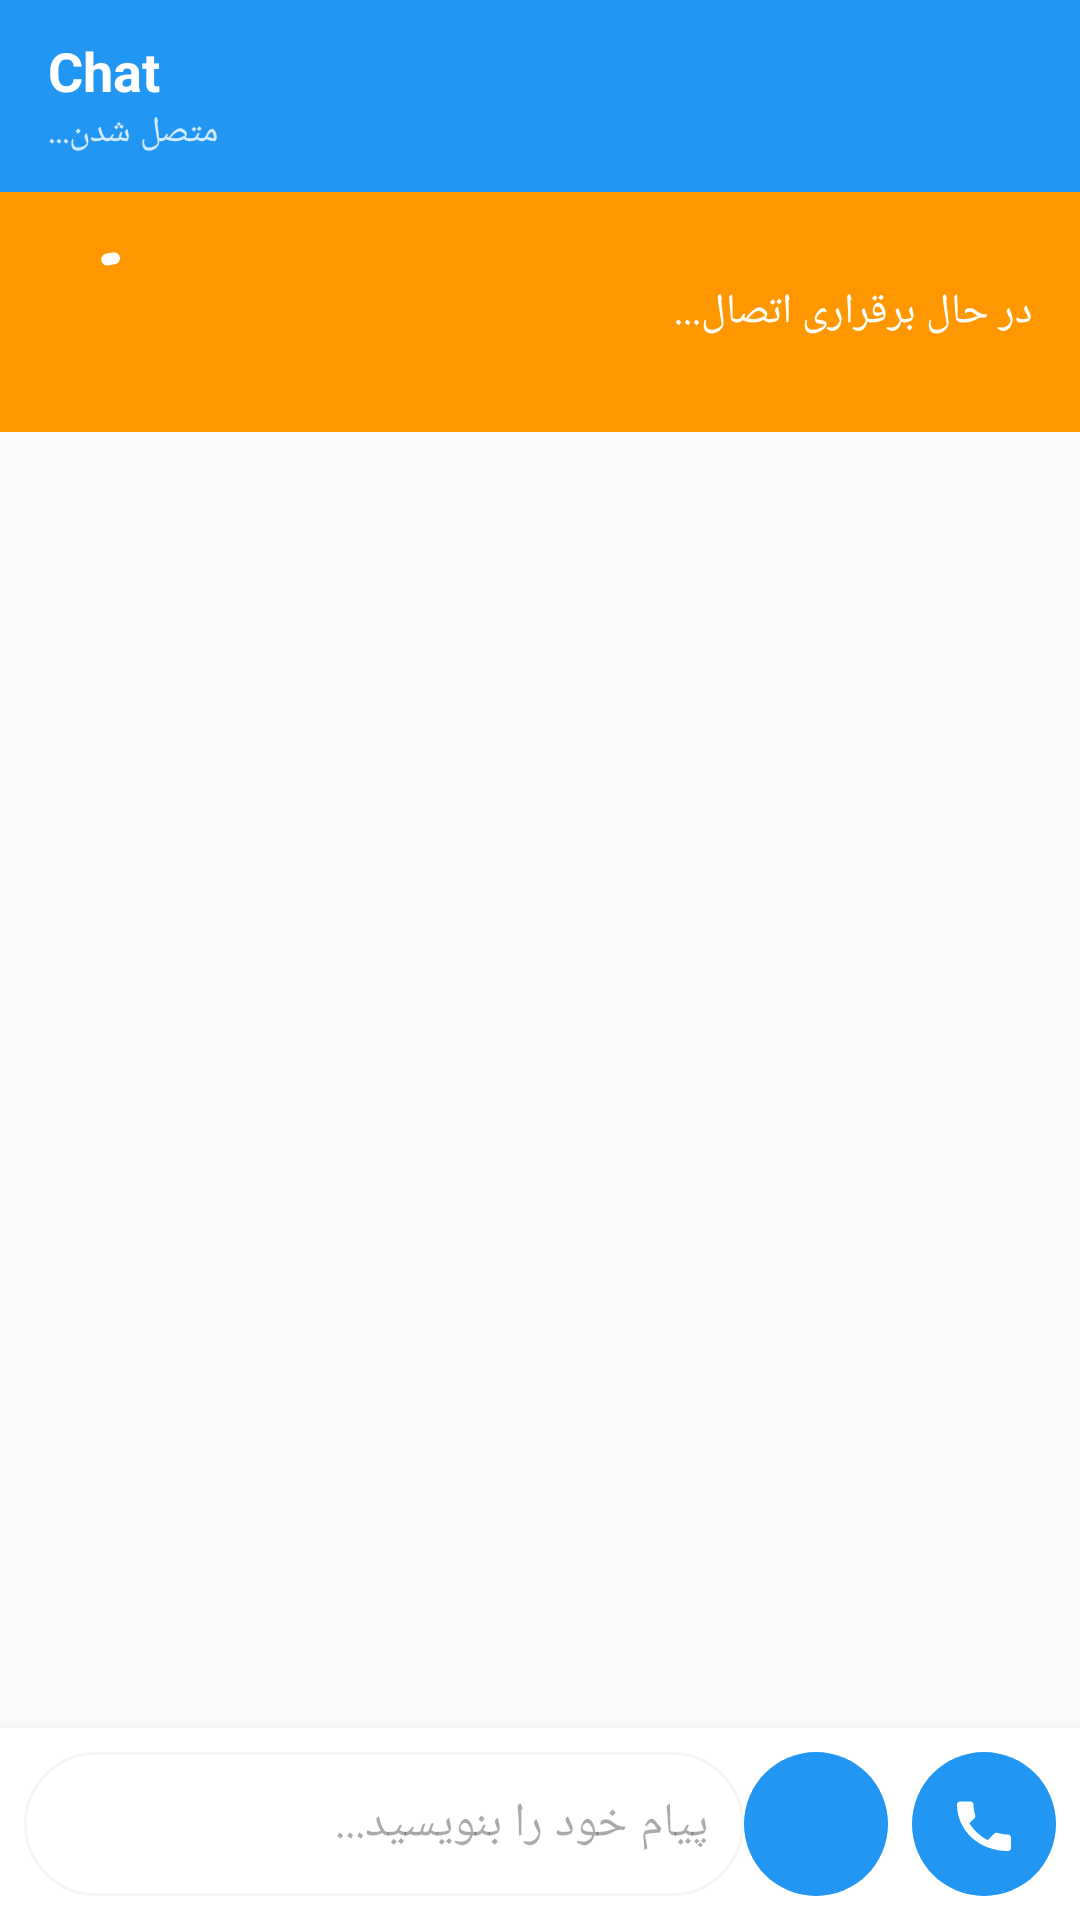

Icon bounding boxes for this 1080px×1920px phone screenshot, format detection(x1, y1, x2, y2):
شروع تماس صوتی: detection(912, 1752, 1056, 1896)
